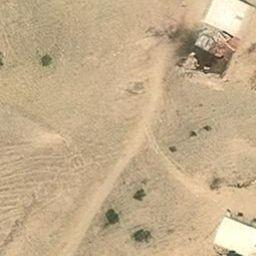manzanas: (182, 1, 251, 84), (213, 213, 254, 255)
